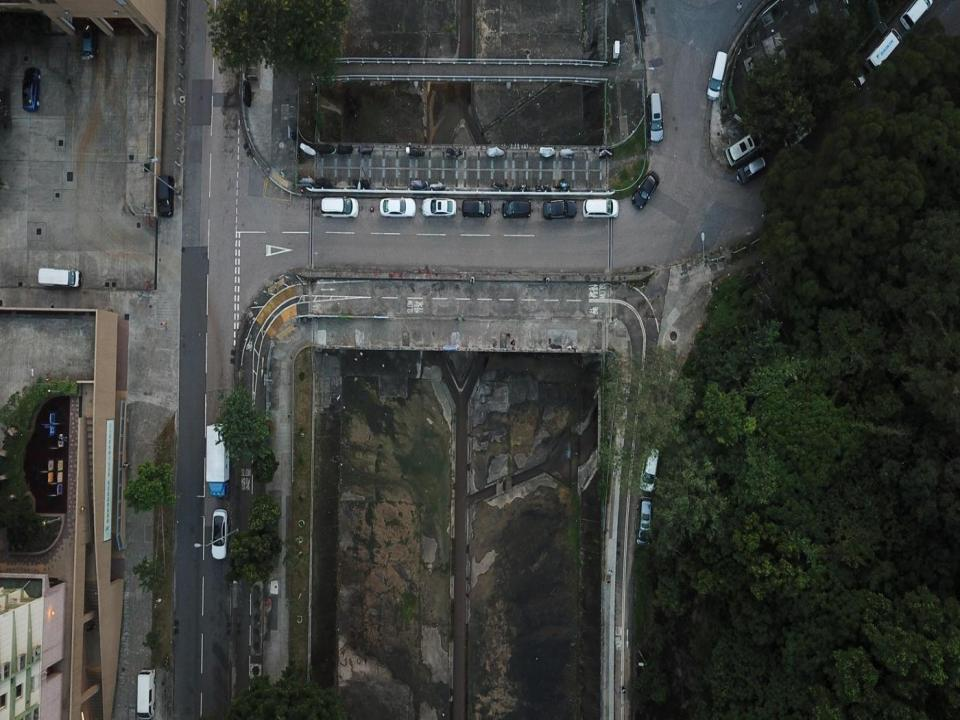car: (725, 130, 766, 165), (632, 170, 659, 210), (639, 448, 659, 492), (211, 508, 228, 559), (736, 156, 765, 185), (321, 196, 359, 218), (22, 66, 40, 112), (636, 496, 652, 547), (783, 121, 811, 149), (157, 174, 174, 218), (422, 196, 456, 218), (583, 197, 618, 218), (380, 196, 415, 216), (542, 200, 577, 219), (81, 22, 98, 60), (462, 198, 492, 218), (502, 200, 531, 219), (845, 75, 865, 93)
truck: (206, 423, 231, 498), (38, 268, 82, 287)
van: (863, 28, 902, 73), (706, 51, 727, 102), (900, 0, 933, 31), (137, 669, 156, 719), (646, 93, 664, 142)
